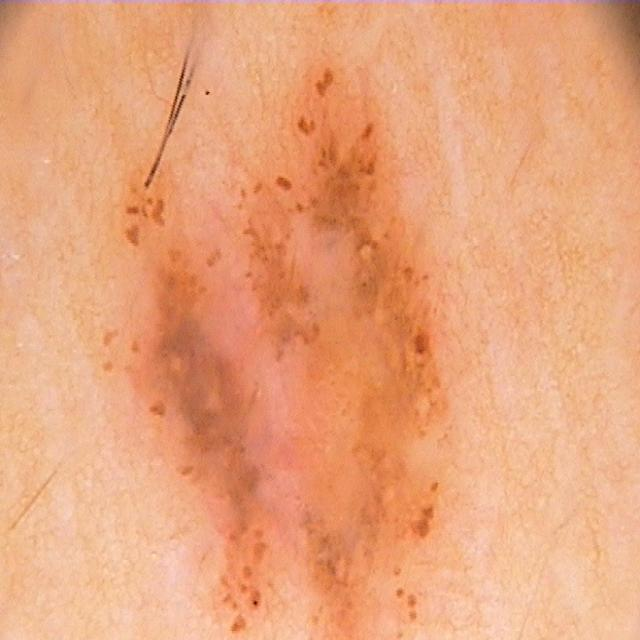Melanoma: (107, 83, 540, 640)
